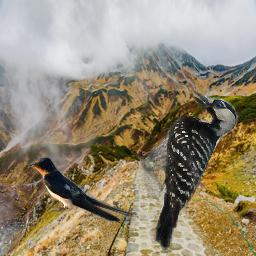Swallow: (26, 154, 135, 223)
Woodpecker: (139, 90, 239, 252)
